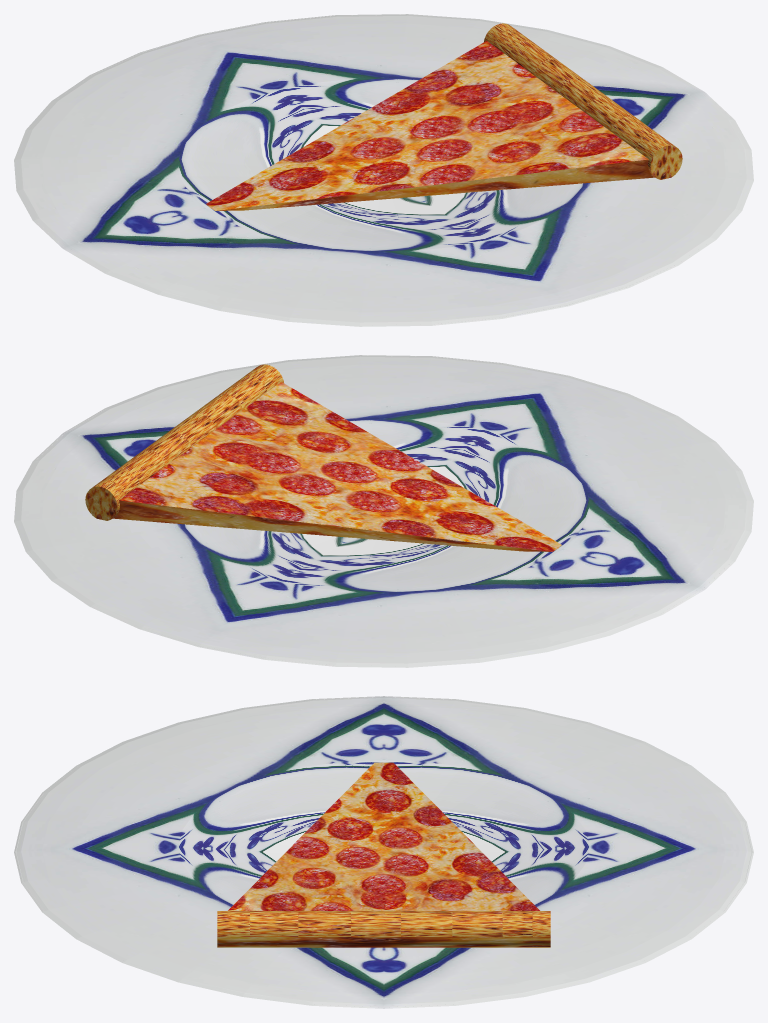
File: PizzaOnPlate1.fbx
3 views of the same model, one above another, from view 1: azimuth 30°, elevation 25°; view 2: azimuth 150°, elevation 25°; view 3: azimuth 270°, elevation 25° (orthographic).
Visible parts, largest first — view 1: Sphere, Cube, Cylinder; view 2: Sphere, Cube, Cylinder; view 3: Sphere, Cube, Cylinder.
Part boxes in pixels (<box>): Sphere: <box>14,14,753,326</box>; Cube: <box>206,41,654,210</box>; Cylinder: <box>484,23,682,179</box>; Sphere: <box>14,355,753,667</box>; Cube: <box>113,382,561,551</box>; Cylinder: <box>85,364,283,520</box>; Sphere: <box>14,696,753,1008</box>; Cube: <box>228,762,539,910</box>; Cylinder: <box>217,911,550,947</box>.
Bounding box in the file's own units: 200 × 13 × 200.
